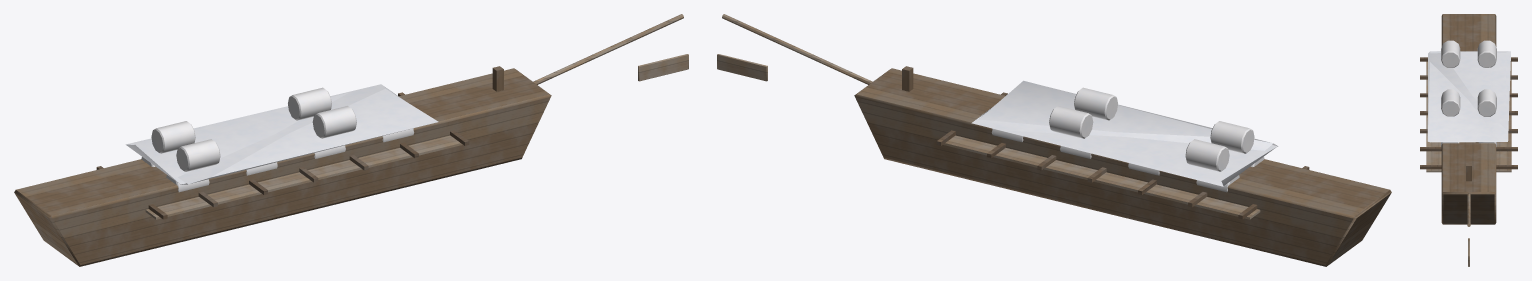
The model's file is salt_barge.glb.
3 renders of one model, left to right at view 1: azimuth 30°, elevation 25°; view 2: azimuth 150°, elevation 25°; view 3: azimuth 270°, elevation 25°, orthographic. The views are drawn at different scales.
Visible parts, largest first — view 1: salt_barge; view 2: salt_barge; view 3: salt_barge.
Part boxes in pixels (x1,y1,x2,y2): salt_barge: (14, 14, 688, 266); salt_barge: (717, 14, 1391, 266); salt_barge: (1420, 14, 1517, 266).
Size of what is drawn, in the model's own units: 18.3 by 2.35 by 3.22.
5 materials, 5 textured.
